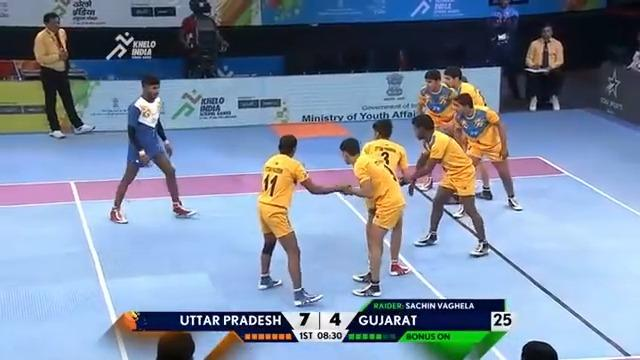Player: (256, 133, 351, 306), (404, 113, 490, 256), (338, 136, 412, 296), (450, 92, 523, 215), (415, 68, 458, 191)
Raider: (109, 75, 197, 224)
referee: (32, 11, 95, 138), (178, 0, 230, 78), (523, 22, 565, 111)
